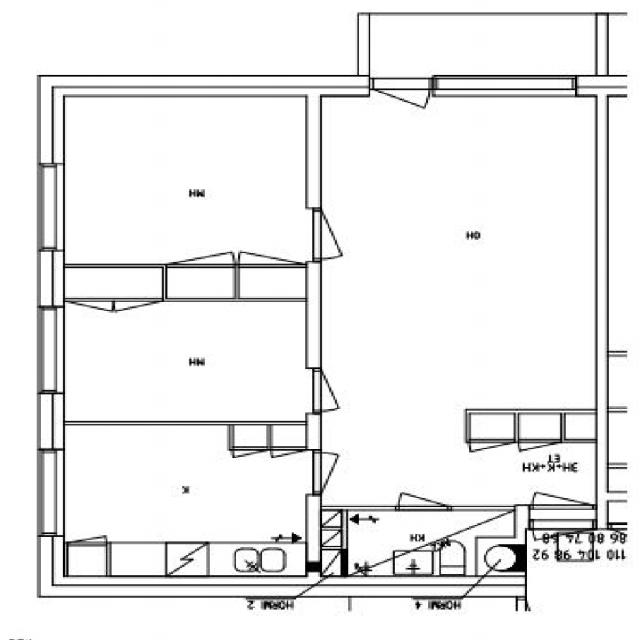door: (312, 210, 382, 259), (532, 519, 592, 576), (240, 214, 302, 267), (170, 214, 232, 267), (372, 78, 429, 134), (532, 456, 592, 509), (312, 371, 371, 411), (312, 453, 370, 492), (398, 466, 448, 510), (113, 298, 158, 338), (68, 298, 113, 338), (471, 439, 512, 475), (519, 439, 558, 473), (272, 446, 304, 474), (234, 446, 265, 474)
